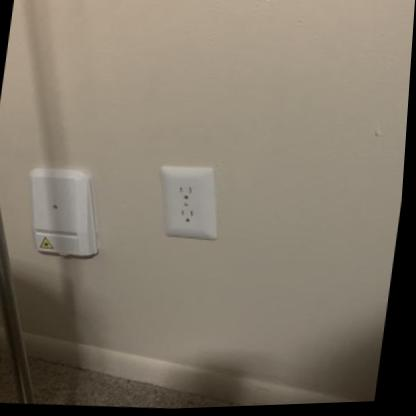OUTLET: (153, 164, 225, 240)
